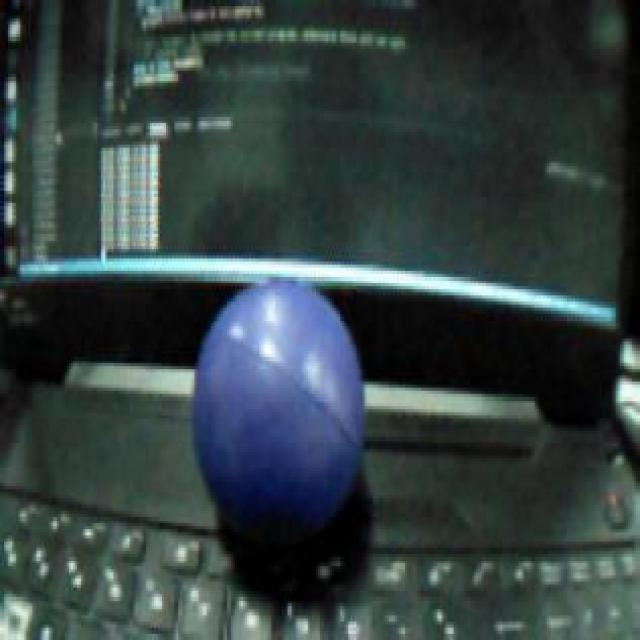BallPurple: (192, 280, 366, 540)
